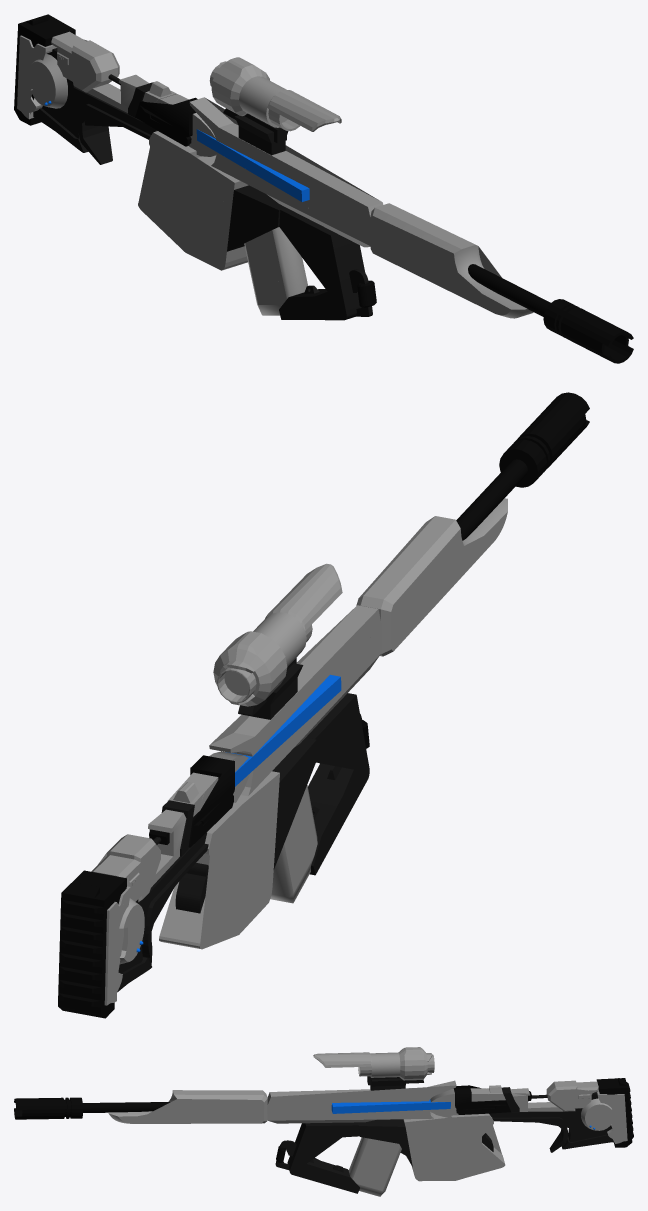
The model's file is sniper3.obj.
3 views of the same model, one above another, from view 1: azimuth 30°, elevation 25°; view 2: azimuth 150°, elevation 25°; view 3: azimuth 270°, elevation 25° (orthographic). The views are drawn at different scales.
Visible parts, largest first — view 1: Line028, Line011, Line033, Line034, Cylinder008, Cylinder007, ChamferBox001, Line021, Line029, Line032, Box007, Line015 (+7 smaller); view 2: Line028, Line034, Line011, Line033, Cylinder008, Line019, Cylinder007, ChamferBox001, Line021, Line032, Box007, Line020 (+6 smaller); view 3: Line028, Line033, Line011, Line034, Cylinder008, Cylinder007, ChamferBox001, Line029, Line021, Box007, Line032, Line020 (+9 smaller).
Part boxes in pixels (x1,y1,x2,y2): Line028: (138, 131, 248, 270); Line011: (227, 185, 365, 320); Line033: (189, 97, 383, 247); Line034: (370, 203, 533, 318); Cylinder008: (209, 57, 341, 131); Cylinder007: (468, 264, 633, 363); ChamferBox001: (244, 227, 307, 315); Line021: (51, 31, 119, 92); Line029: (42, 48, 157, 138); Line032: (135, 97, 197, 146); Box007: (196, 129, 309, 201); Line015: (78, 104, 151, 164); Line028: (159, 771, 279, 949); Line034: (356, 498, 507, 656); Line011: (272, 693, 369, 875); Line033: (209, 605, 381, 796); Cylinder008: (213, 563, 342, 706); Line019: (58, 870, 126, 1018); Cylinder007: (456, 392, 589, 540); ChamferBox001: (270, 785, 317, 903); Line021: (91, 834, 160, 901); Line032: (188, 755, 234, 847); Box007: (226, 674, 341, 786); Line020: (104, 886, 130, 1005); Line028: (403, 1112, 505, 1181); Line033: (267, 1080, 456, 1123); Line011: (287, 1119, 412, 1193); Line034: (108, 1090, 267, 1123); Cylinder008: (313, 1047, 434, 1080); Cylinder007: (14, 1097, 170, 1119); ChamferBox001: (348, 1137, 401, 1196); Line029: (489, 1092, 612, 1141); Line021: (546, 1080, 598, 1111); Box007: (331, 1099, 450, 1113); Line032: (453, 1085, 510, 1114); Line020: (597, 1090, 627, 1143).
Size of the model in its own units: 3.09 by 5.26 by 20.45.
